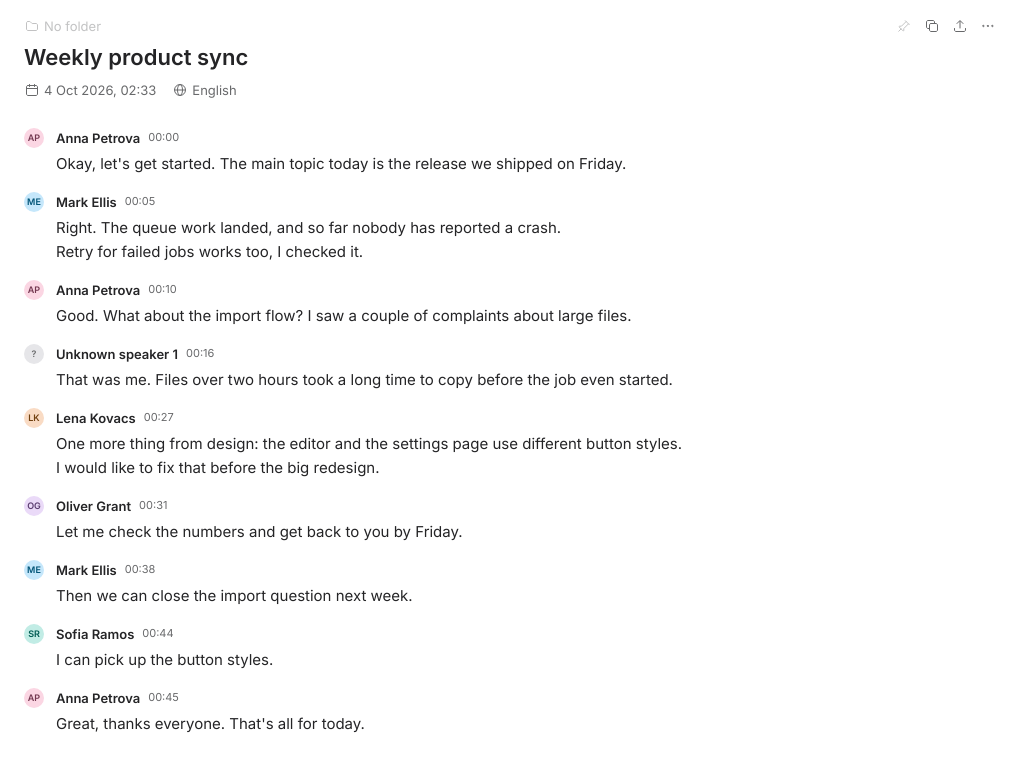
Scenario: highlighting a speaker › a turn that comes with new data is marked too
Hover over the text "Right. The queue work landed, and so far nobody has reported a crash." at (309, 228), box x1=56 y1=218 x2=561 y2=237
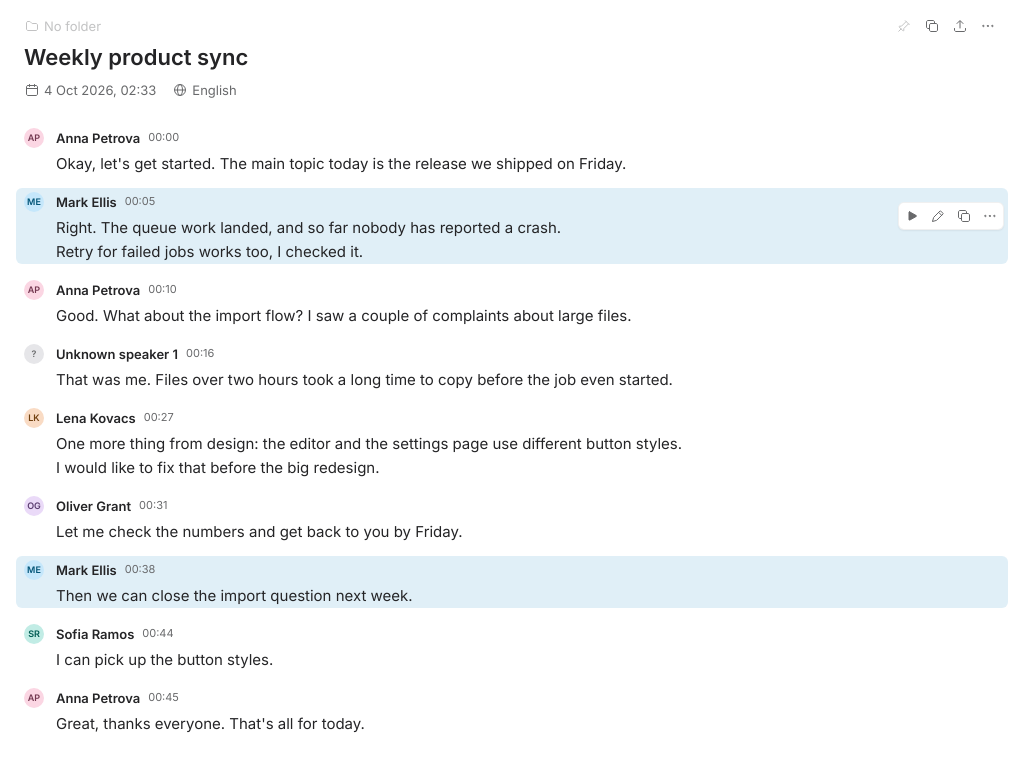
Click the 2nd button named "More" at (990, 216), box x1=978 y1=204 x2=1002 y2=228
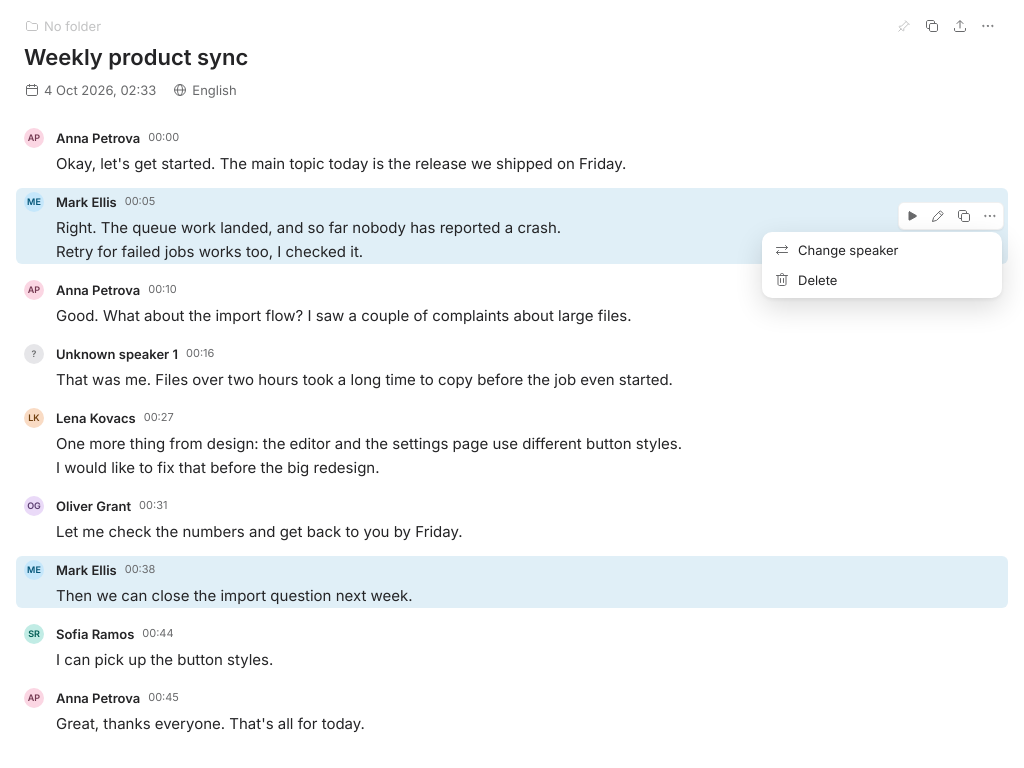
Click the menu item "Delete" at (882, 280), box x1=766 y1=266 x2=998 y2=294
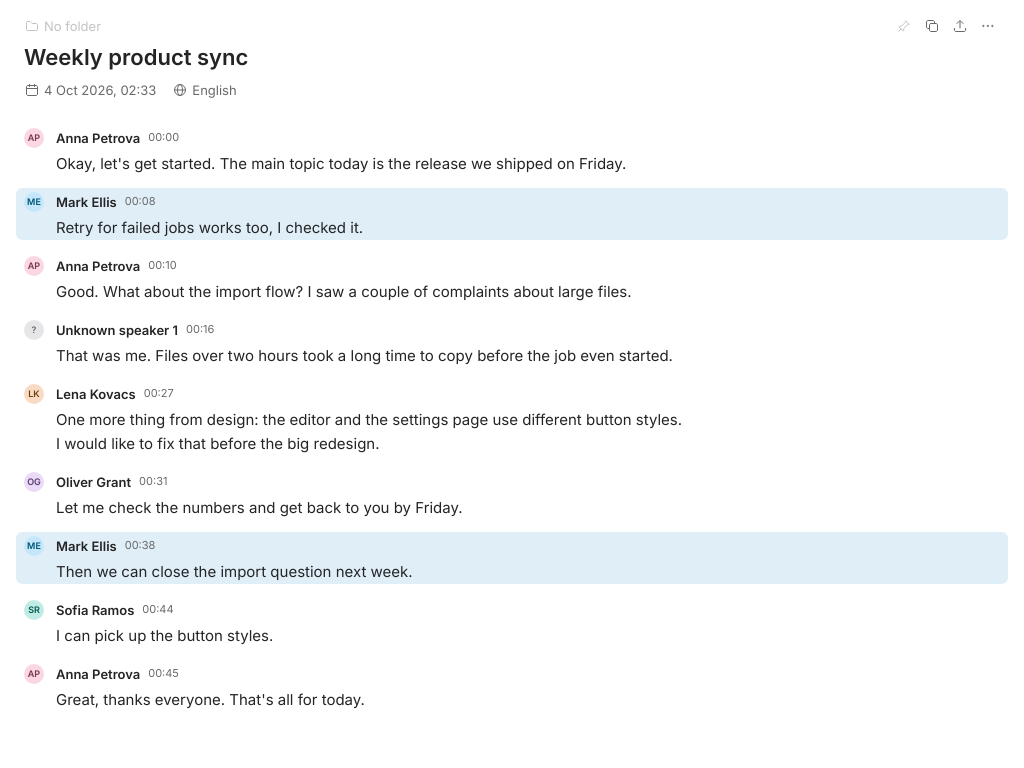
Now the text "Right. The queue work landed, and so far nobody has reported a crash." is gone
